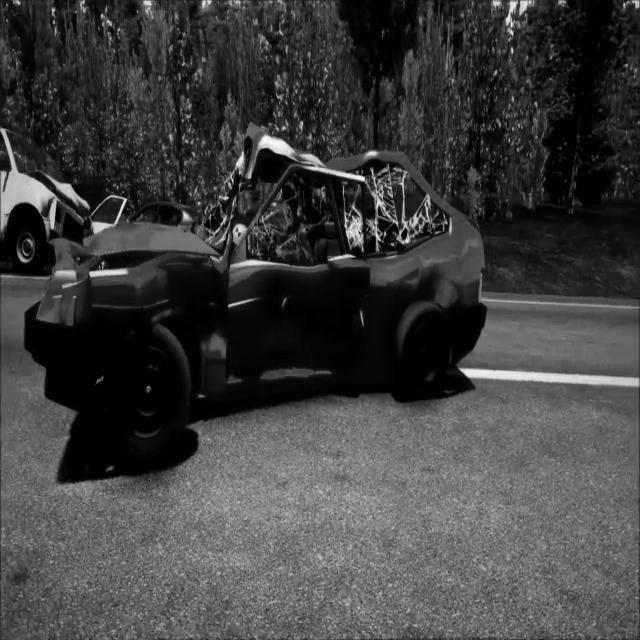accident: (28, 109, 491, 472)
